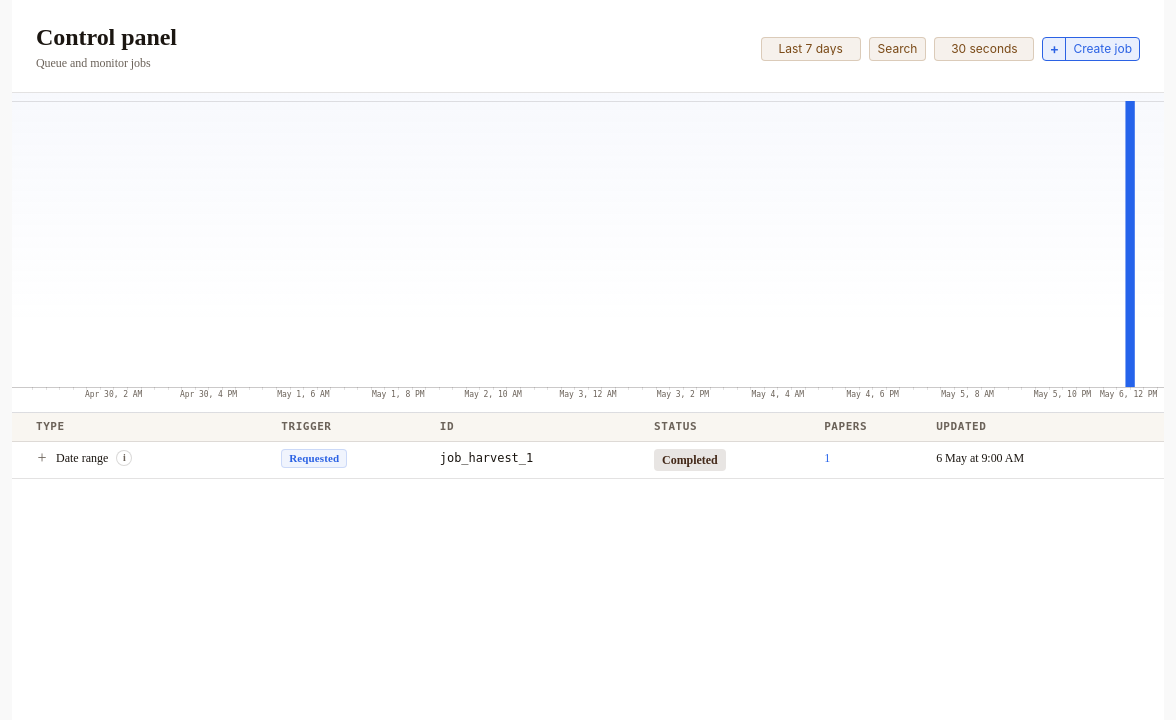
it: AdminOpsPanel › shows grouped child jobs when a root job expands
Click the text "job_harvest_1". click: [486, 458]
box: [440,451,533,465]
(page scrolled)
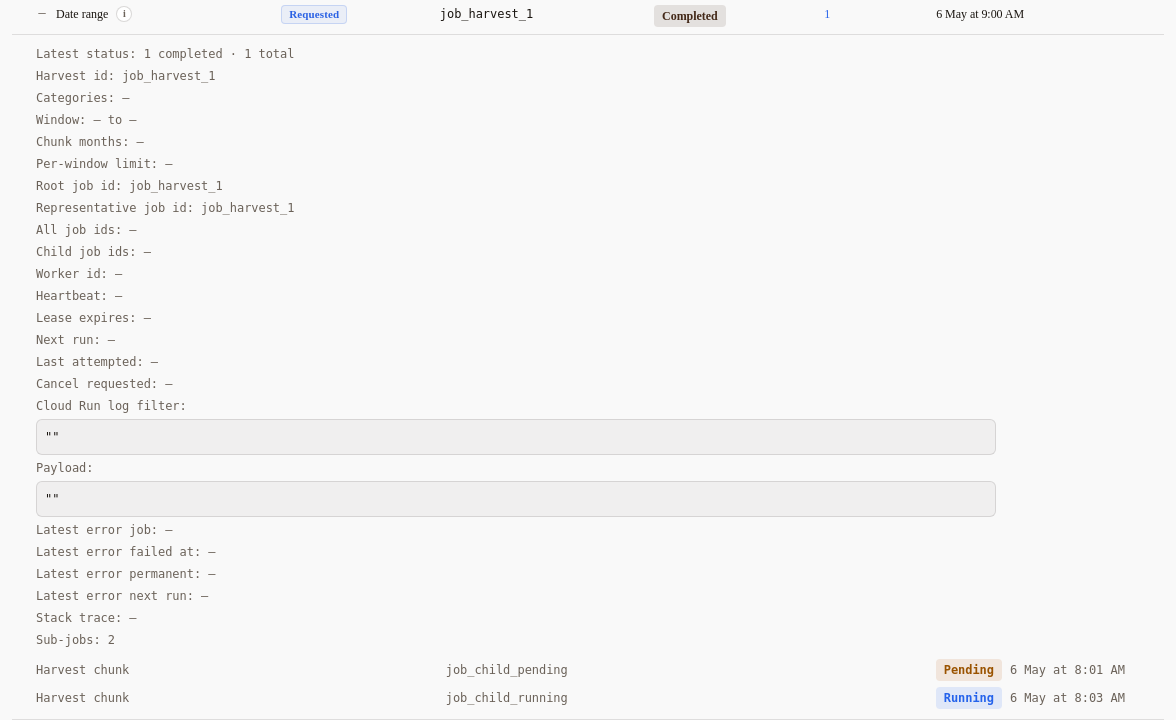
Expected: the text "Sub-jobs: 2" is shown, [36,633,115,647]
Expected: the text "job_child_pending" is shown, [446,663,568,677]
Expected: the text "job_child_running" is shown, [446,691,568,705]
